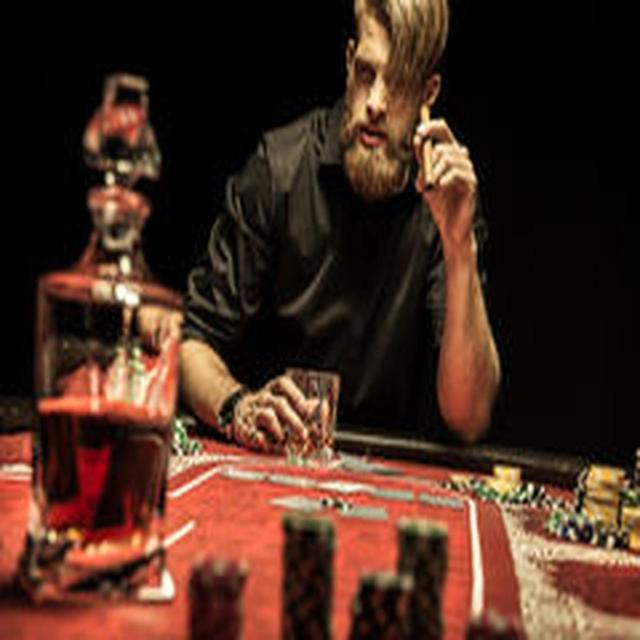smoking: (337, 0, 485, 268)
